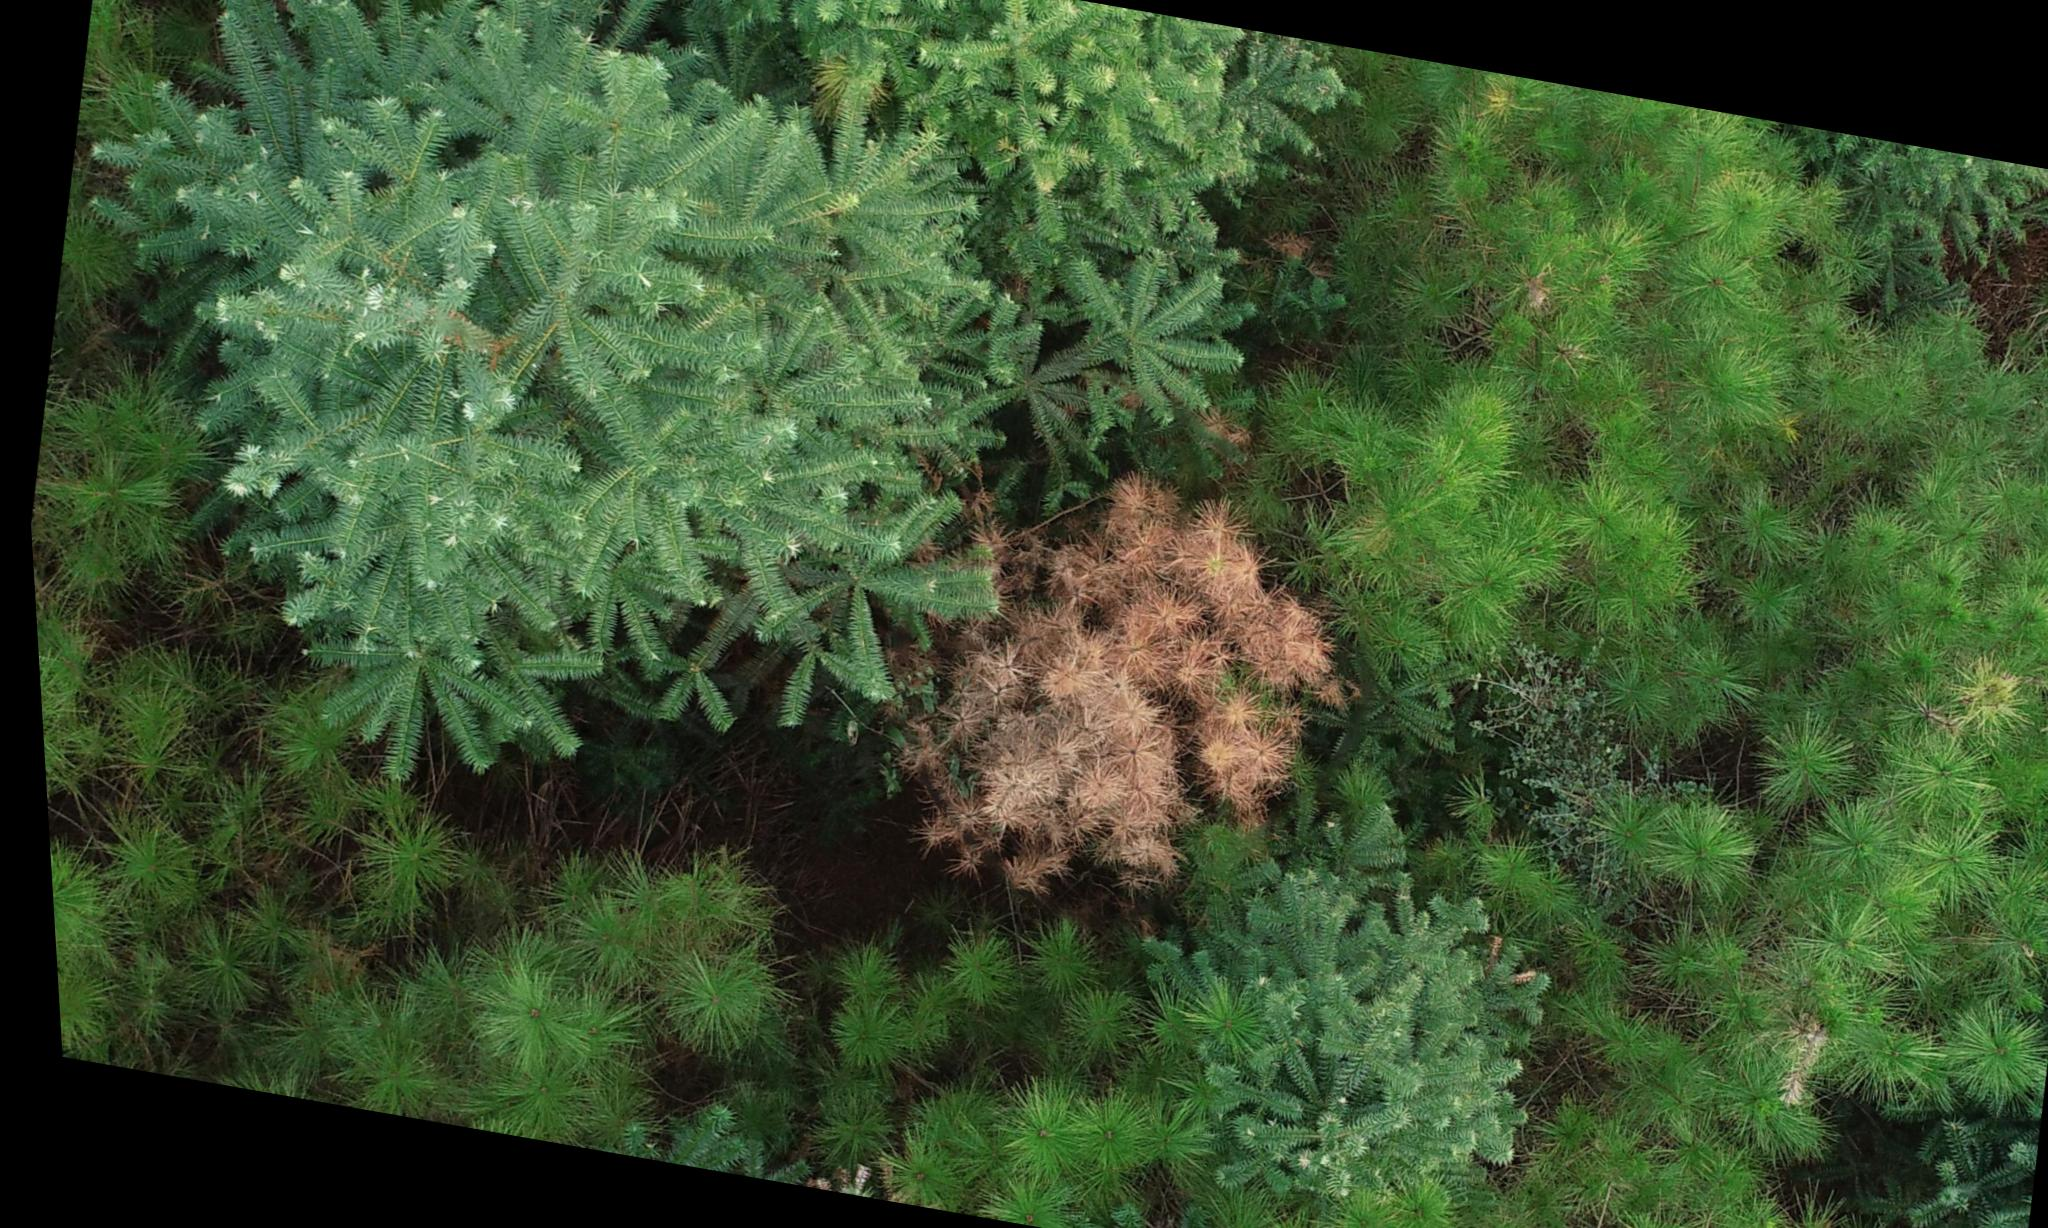heavy: (873, 452, 1364, 928)
